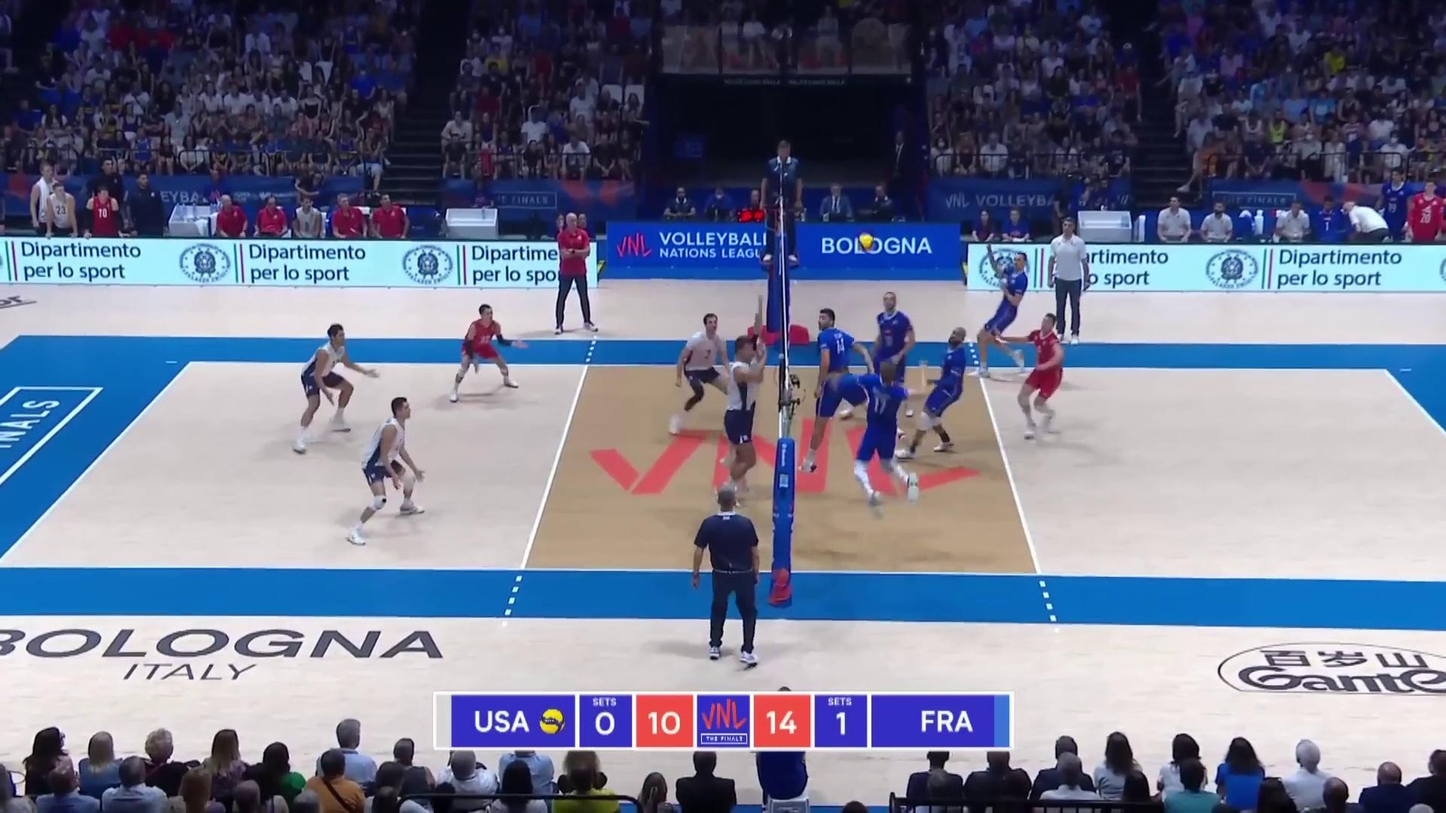player: (346, 396, 431, 544), (804, 308, 871, 476), (851, 362, 920, 517), (288, 322, 367, 453), (897, 328, 972, 457), (844, 290, 912, 419), (1001, 314, 1064, 440), (718, 338, 763, 505), (670, 315, 733, 433), (973, 245, 1028, 379), (449, 306, 524, 402)
refree: (691, 488, 760, 661), (763, 142, 804, 263)
